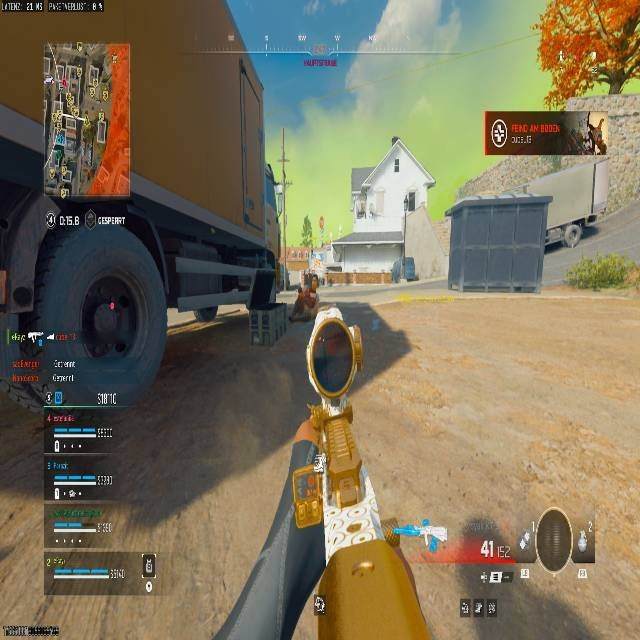player: (288, 267, 321, 324)
